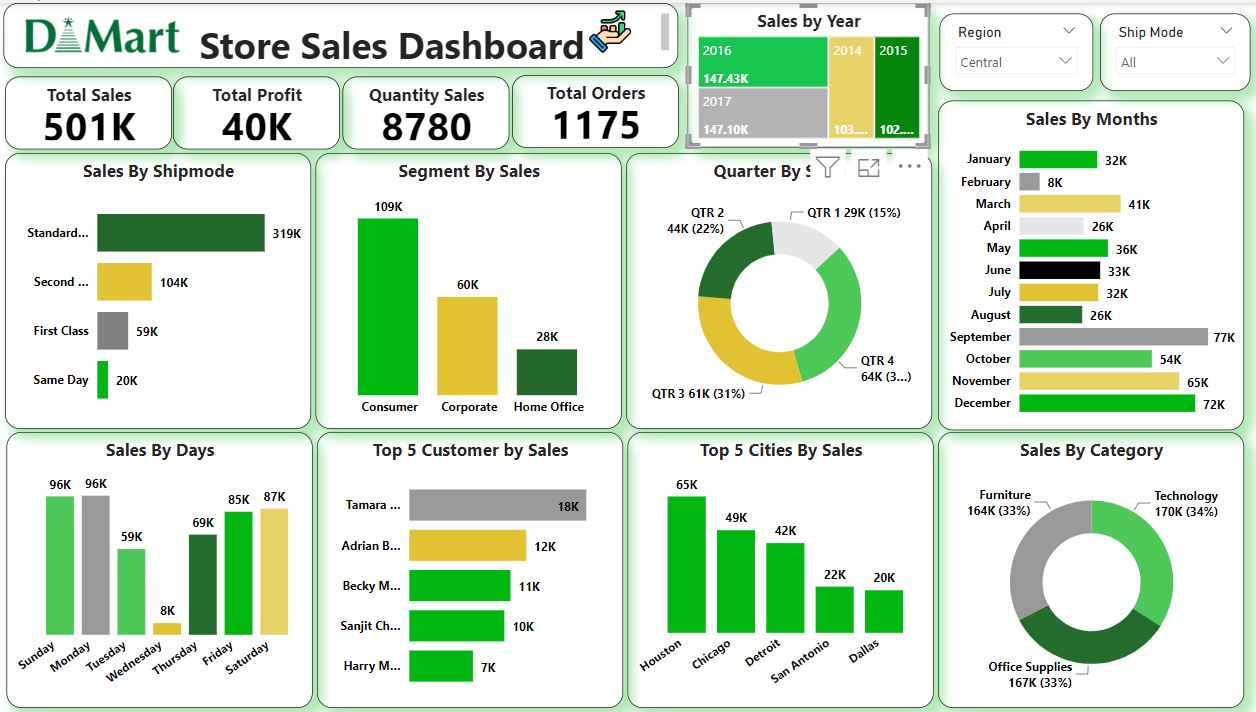

The dashboard page shown, as its layout file describes it:
{"tool":"powerbi","page":{"name":"Page 1","canvas":[1280,720],"ordinal":0},"visuals":[{"type":"donutChart","title":"Sales By Category","fields":{"Category":["DMart Sales.Category"],"Y":["DMart Sales.Sales"]},"box":[955.5,436.1,310.4,280.1],"z":0},{"type":"clusteredColumnChart","title":"Top 5 Cities By Sales","fields":{"Y":["DMart Sales.Sales"],"Category":["DMart Sales.City"]},"box":[640.5,436.1,310.4,280.1],"z":1000},{"type":"clusteredBarChart","title":"Top 5 Customer by Sales","fields":{"Category":["DMart Sales.Customer Name"],"Y":["DMart Sales.Sales"]},"box":[325.6,436.1,310.4,280.1],"z":2000},{"type":"clusteredColumnChart","title":"Sales By Days","fields":{"Y":["DMart Sales.Sales"],"Category":["DMart Sales.Day Name"]},"box":[10.6,436.1,310.4,280.1],"z":3000},{"type":"clusteredBarChart","title":"Sales By Months","fields":{"Category":["DMart Sales.Month Name"],"Y":["DMart Sales.Sales"]},"box":[955.5,98.4,310.4,334.6],"z":4000},{"type":"donutChart","title":"Quarter By Sales","fields":{"Category":["DMart Sales.QTR Name"],"Y":["DMart Sales.Sales"]},"box":[639,152.9,310.4,280.1],"z":5000},{"type":"clusteredColumnChart","title":"Segment By Sales","fields":{"Category":["DMart Sales.Segment"],"Y":["DMart Sales.Sales"]},"box":[324,152.9,310.4,280.1],"z":6000},{"type":"clusteredBarChart","title":"Sales By Shipmode","fields":{"Y":["DMart Sales.Sales"],"Category":["DMart Sales.Ship Mode"]},"box":[9.1,152.9,310.4,280.1],"z":7000},{"type":"textbox","box":[7.3,0,684.7,66.1],"z":8000},{"type":"image","box":[15.1,0,186.2,66.6],"z":9000},{"type":"image","box":[581.5,0,83.3,57.5],"z":10000},{"type":"card","title":"Total Sales","fields":{"Values":["DMart Sales.Sales"]},"box":[9.1,74.2,169.6,74.2],"z":11000},{"type":"card","title":"Total Profit","fields":{"Values":["DMart Sales.Profit"]},"box":[180.2,74.2,169.6,74.2],"z":12000},{"type":"card","title":"Quantity Sales","fields":{"Values":["DMart Sales.Quantity"]},"box":[351.3,74.2,169.6,74.2],"z":13000},{"type":"card","title":"Total Orders","fields":{"Values":["DMart Sales.Order ID"]},"box":[523.9,72.7,169.6,74.2],"z":14000},{"type":"slicer","fields":{"Values":["DMart Sales.Region"]},"box":[957,10.6,156,78.7],"z":15000},{"type":"slicer","fields":{"Values":["DMart Sales.Ship Mode"]},"box":[1120.5,10.6,152.9,78.7],"z":16000},{"type":"treemap","title":"Sales by Year","fields":{"Group":["DMart Sales.Year"],"Values":["DMart Sales.Sales"]},"box":[701.1,0,245.3,146.9],"z":17000}]}

Visuals, with their boxes in screenshot pixels (x1, y1, x2, y2), scaled from the page's 1280x720 canvas onto the 1256x712 screenshot:
"Sales By Category" donutChart: (x1=938, y1=431, x2=1242, y2=708)
"Top 5 Cities By Sales" clusteredColumnChart: (x1=628, y1=431, x2=933, y2=708)
"Top 5 Customer by Sales" clusteredBarChart: (x1=319, y1=431, x2=624, y2=708)
"Sales By Days" clusteredColumnChart: (x1=10, y1=431, x2=315, y2=708)
"Sales By Months" clusteredBarChart: (x1=938, y1=97, x2=1242, y2=428)
"Quarter By Sales" donutChart: (x1=627, y1=151, x2=932, y2=428)
"Segment By Sales" clusteredColumnChart: (x1=318, y1=151, x2=623, y2=428)
"Sales By Shipmode" clusteredBarChart: (x1=9, y1=151, x2=314, y2=428)
textbox: (x1=7, y1=0, x2=679, y2=65)
image: (x1=15, y1=0, x2=198, y2=66)
image: (x1=571, y1=0, x2=652, y2=57)
"Total Sales" card: (x1=9, y1=73, x2=175, y2=147)
"Total Profit" card: (x1=177, y1=73, x2=343, y2=147)
"Quantity Sales" card: (x1=345, y1=73, x2=511, y2=147)
"Total Orders" card: (x1=514, y1=72, x2=680, y2=145)
slicer - DMart Sales.Region: (x1=939, y1=10, x2=1092, y2=88)
slicer - DMart Sales.Ship Mode: (x1=1099, y1=10, x2=1250, y2=88)
"Sales by Year" treemap: (x1=688, y1=0, x2=929, y2=145)
